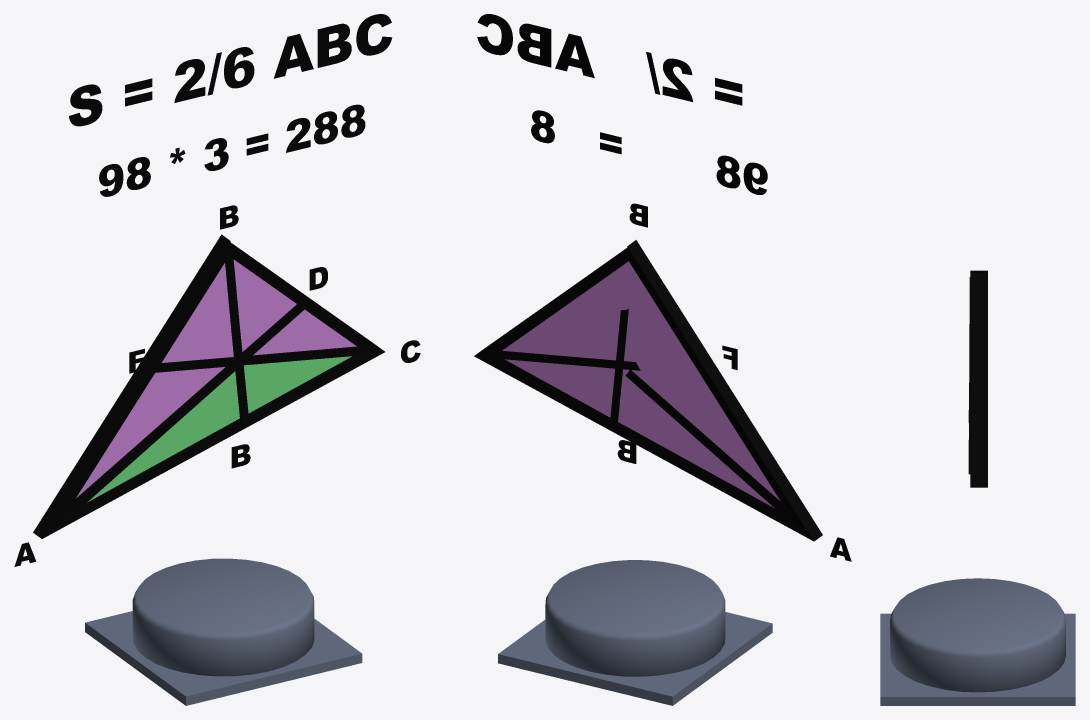
The picture shows the model from 3 angles, left to right: view 1: azimuth 30°, elevation 25°; view 2: azimuth 150°, elevation 25°; view 3: azimuth 270°, elevation 25°; orthographic projection. The views are drawn at different scales.
Visible parts, largest first — view 1: Cube.001, Cylinder, Cube, Text.004, Text.005, Cube.002, Cube.003, Cube.004; view 2: Cube.001, Cylinder, Cube, Text.004, Text.005, Cube.002, Cube.003, Cube.004; view 3: Cylinder, Cube, Cube.001.
Part boxes in pixels (left/top/right/bottom): Cube.001: left=33, top=234, right=384, bottom=538; Cylinder: left=132, top=558, right=314, bottom=676; Cube: left=85, top=611, right=362, bottom=705; Text.004: left=69, top=14, right=392, bottom=126; Text.005: left=99, top=104, right=365, bottom=196; Cube.002: left=64, top=301, right=306, bottom=517; Cube.003: left=152, top=345, right=370, bottom=372; Cube.004: left=224, top=252, right=249, bottom=425; Cube.001: left=474, top=240, right=822, bottom=541; Cylinder: left=545, top=560, right=725, bottom=676; Cube: left=498, top=612, right=772, bottom=705; Text.004: left=477, top=14, right=742, bottom=105; Text.005: left=531, top=110, right=767, bottom=194; Cube.002: left=625, top=370, right=791, bottom=519; Cube.003: left=490, top=350, right=640, bottom=370; Cube.004: left=609, top=257, right=628, bottom=427; Cylinder: left=890, top=578, right=1065, bottom=692; Cube: left=880, top=613, right=1075, bottom=705; Cube.001: left=970, top=270, right=987, bottom=487.
Size of the model in its own units: 21.1 by 29.78 by 9.09.
